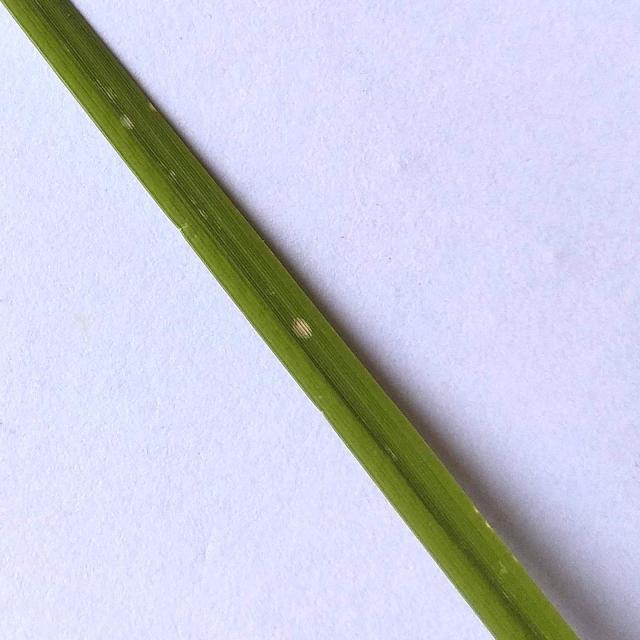Leaf blast: (0, 1, 583, 640)
